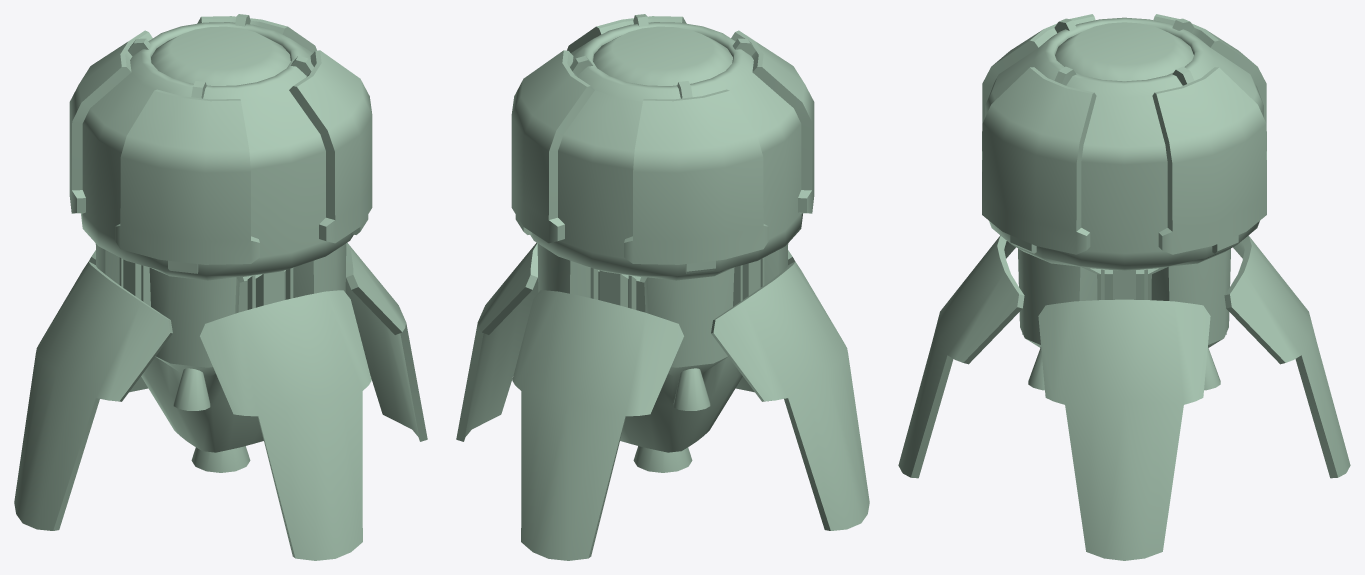
File: REENTRY_CRAFT_static_open_noholes_LOD.fbx
3 views of the same model, side by side, from view 1: azimuth 30°, elevation 25°; view 2: azimuth 150°, elevation 25°; view 3: azimuth 270°, elevation 25° (orthographic).
Parts seen in each view (by area): view 1: EPOD_static_open_noholes_LOD1_GEO; view 2: EPOD_static_open_noholes_LOD1_GEO; view 3: EPOD_static_open_noholes_LOD1_GEO.
Part boxes in pixels (x1,y1,x2,y2): EPOD_static_open_noholes_LOD1_GEO: (14, 14, 427, 560); EPOD_static_open_noholes_LOD1_GEO: (456, 14, 869, 560); EPOD_static_open_noholes_LOD1_GEO: (898, 14, 1350, 560).
Size of the model in its own units: 9.39 by 9.69 by 9.39.
